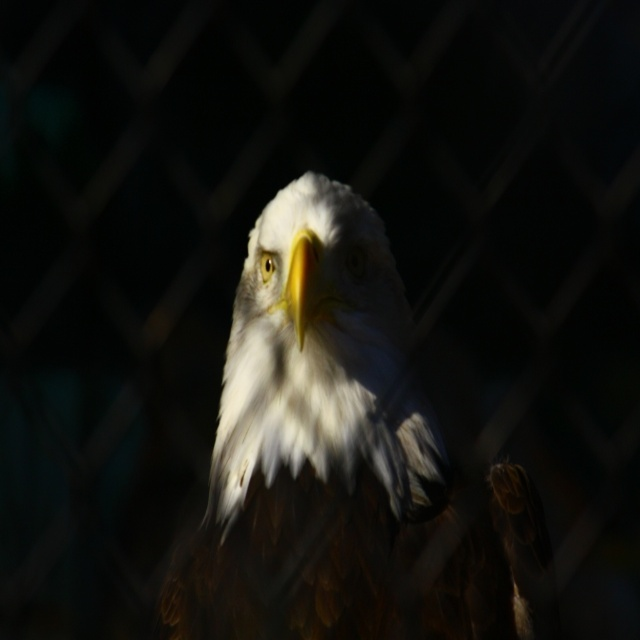Eagle: (149, 172, 530, 639)
